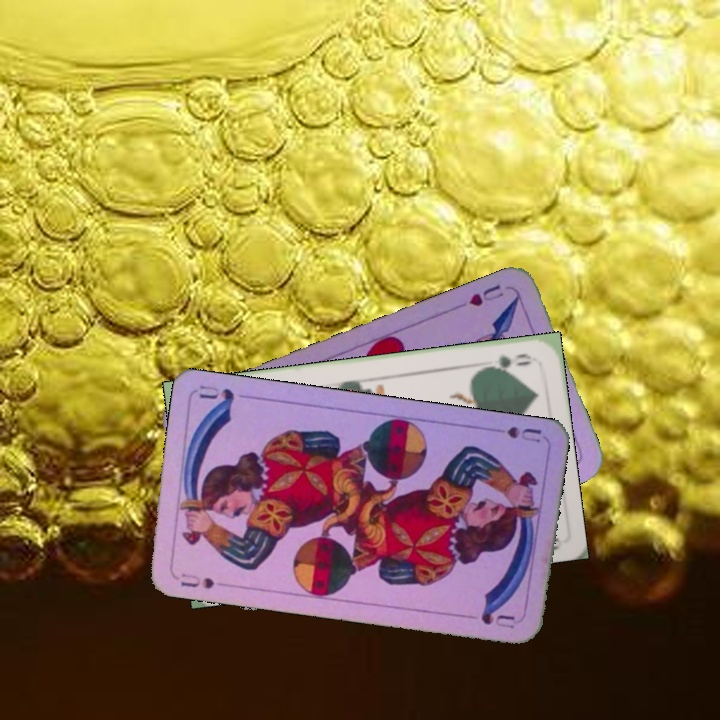GO: (478, 349, 534, 374)
HU: (465, 280, 507, 309)
SU: (484, 422, 544, 446), (176, 569, 217, 592)
